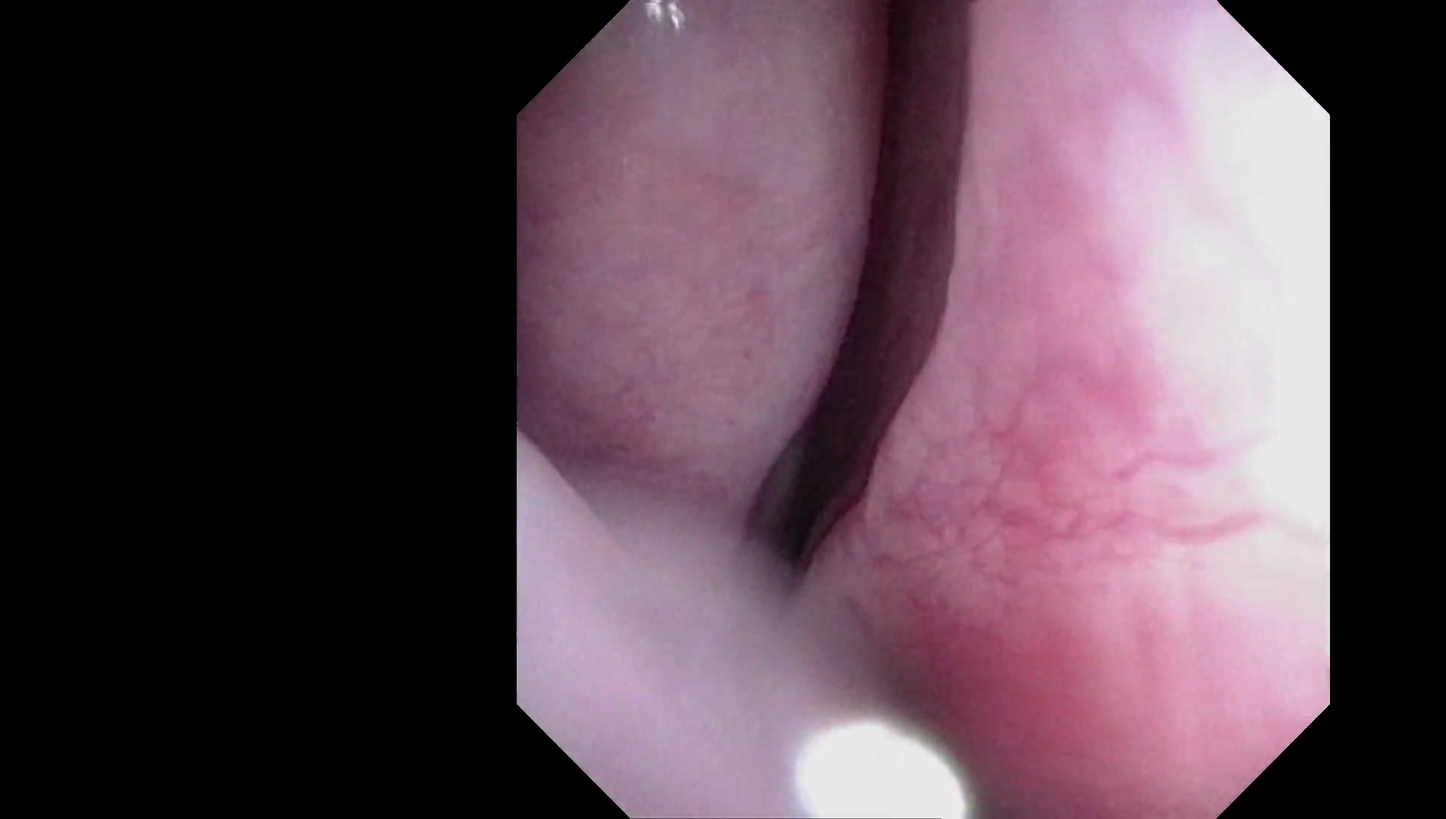close_wall: (1031, 105, 1323, 703)
next: (733, 263, 915, 623)
